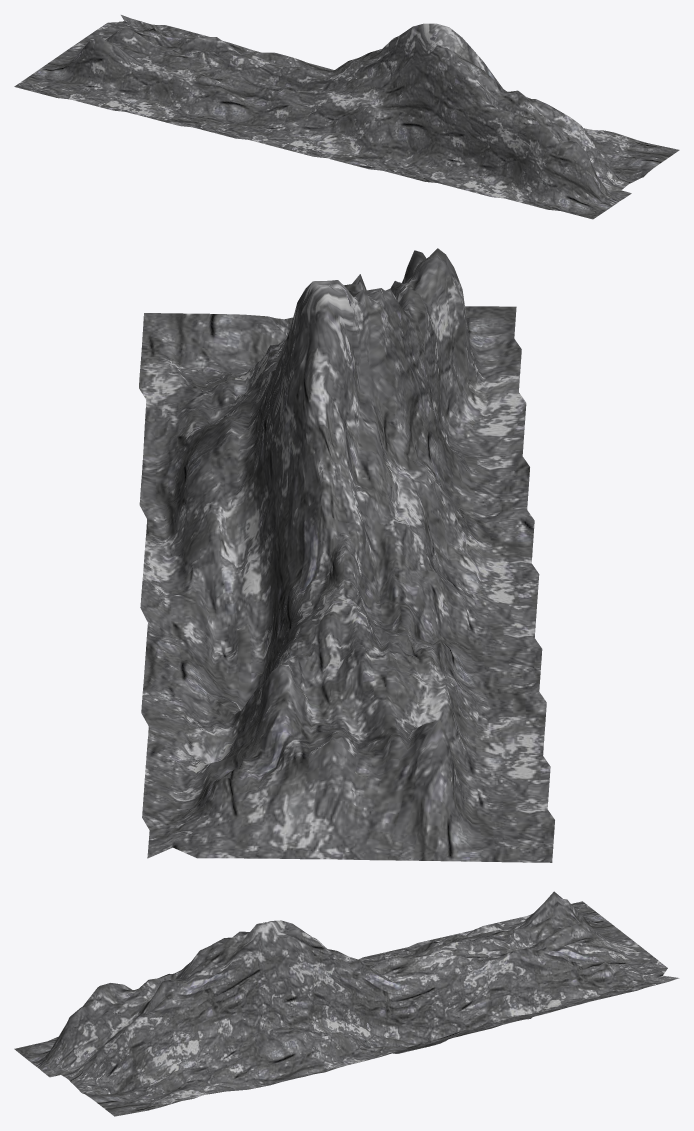
The model's file is mountain_B.dae.
3 views of the same model, one above another, from view 1: azimuth 30°, elevation 25°; view 2: azimuth 150°, elevation 25°; view 3: azimuth 270°, elevation 25° (orthographic). The views are drawn at different scales.
Visible parts, largest first — view 1: mountain_B; view 2: mountain_B; view 3: mountain_B.
Boxes of the visible parts, x1,y1,x2,y2 form: mountain_B: (14, 15, 679, 219); mountain_B: (139, 248, 554, 862); mountain_B: (14, 891, 679, 1116).
Size of the model in its own units: 21.76 by 6.78 by 28.47.
1 material, 1 textured.
